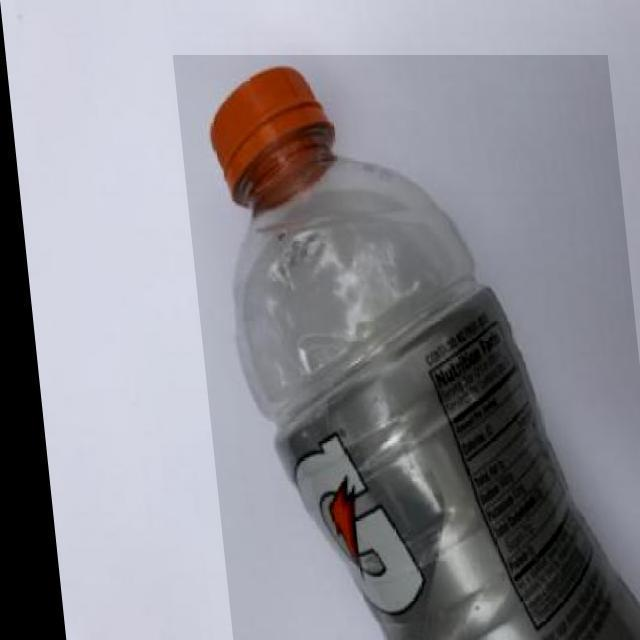good: (171, 55, 640, 640)
